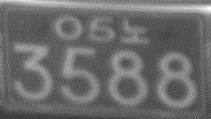0: (54, 14, 83, 40)
3: (12, 41, 52, 102)
5: (59, 44, 98, 104), (88, 14, 116, 43)
8: (154, 50, 198, 108), (107, 47, 149, 106)
노: (120, 16, 150, 45)
